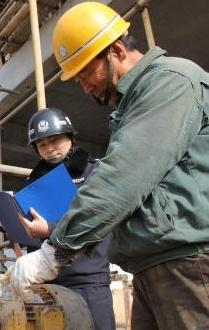gloves: (0, 239, 62, 300)
hard-hat: (27, 108, 77, 147)
